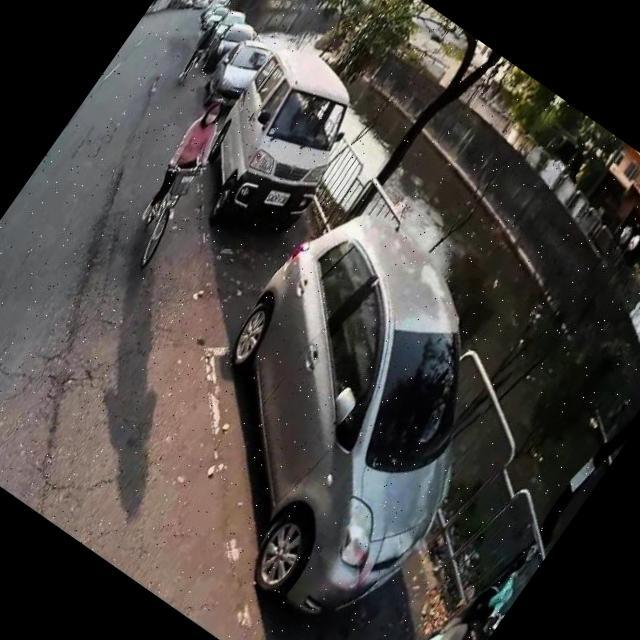person: (128, 91, 246, 238), (174, 16, 228, 84)
